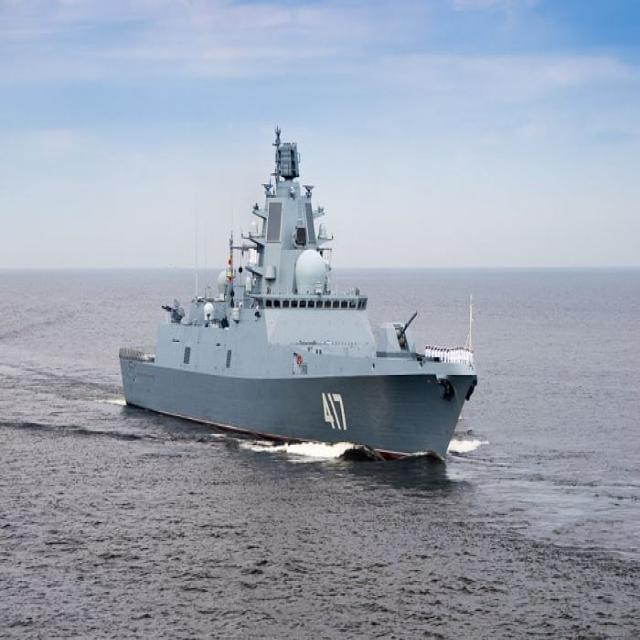navalvessels: (115, 117, 477, 462)
